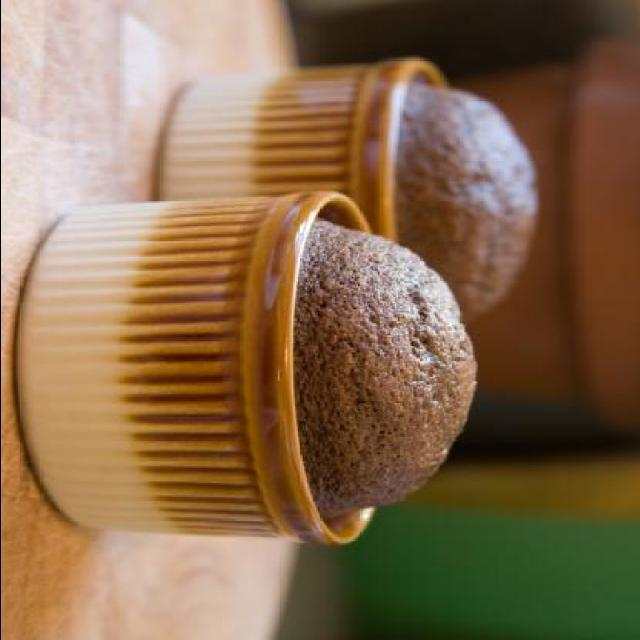Muffin: (288, 217, 478, 520), (388, 77, 542, 321)
